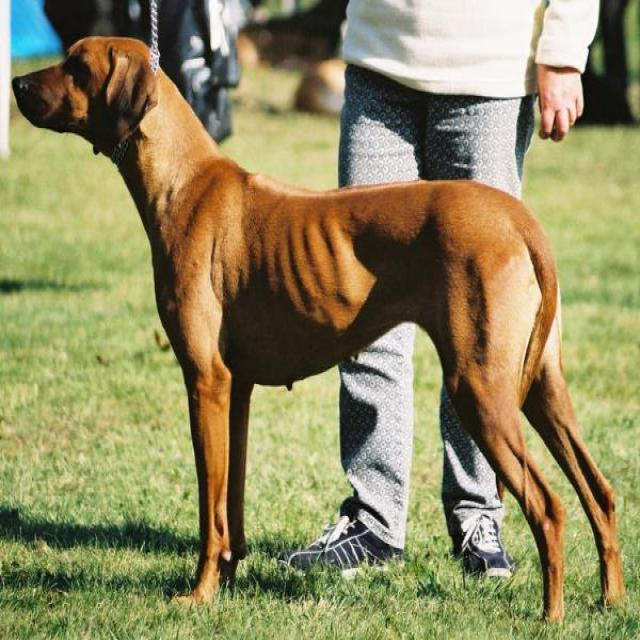rhodesian_ridgeback: (9, 36, 620, 619)
